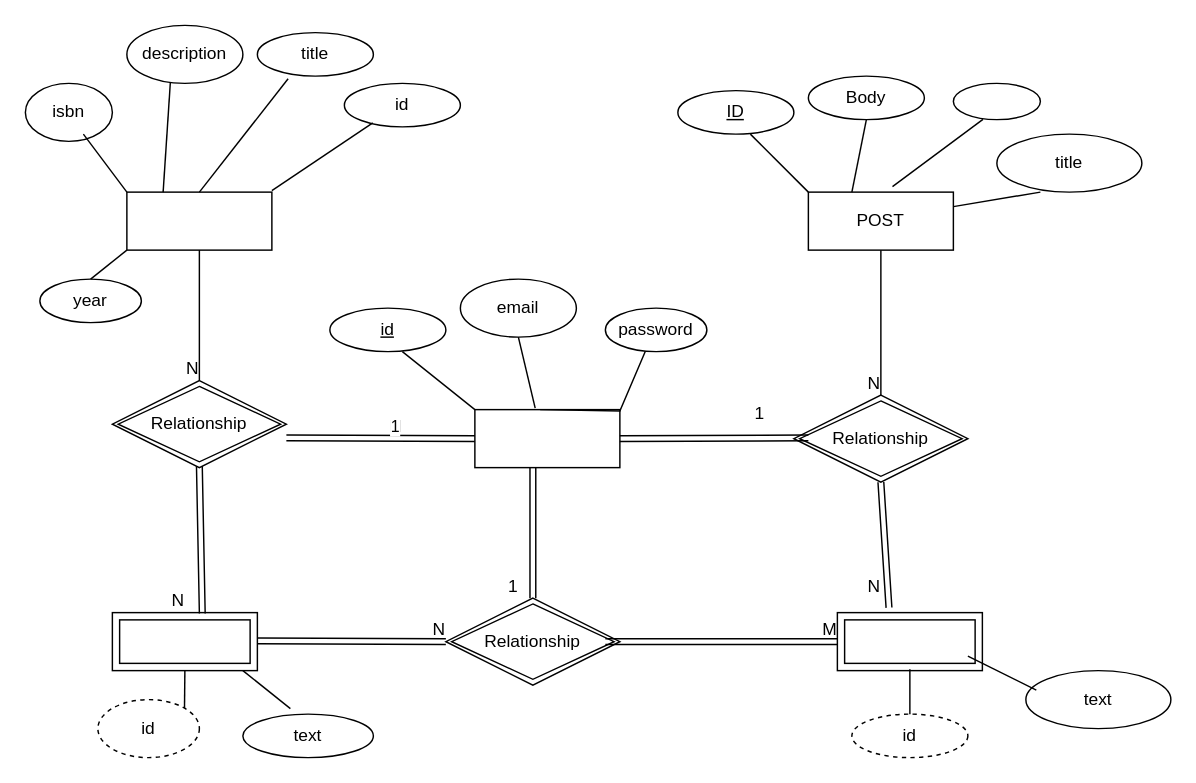
The diagram is 1196 pixels wide and 783 high, and some of its shapes have lost their labels. Here are the shapes that lost their labels. From the top down, the centre of each, then its label:
[996,101]: date
[198,220]: ARTICLE
[546,438]: USER
[184,641]: REVIEW
[909,641]: COMMENT
